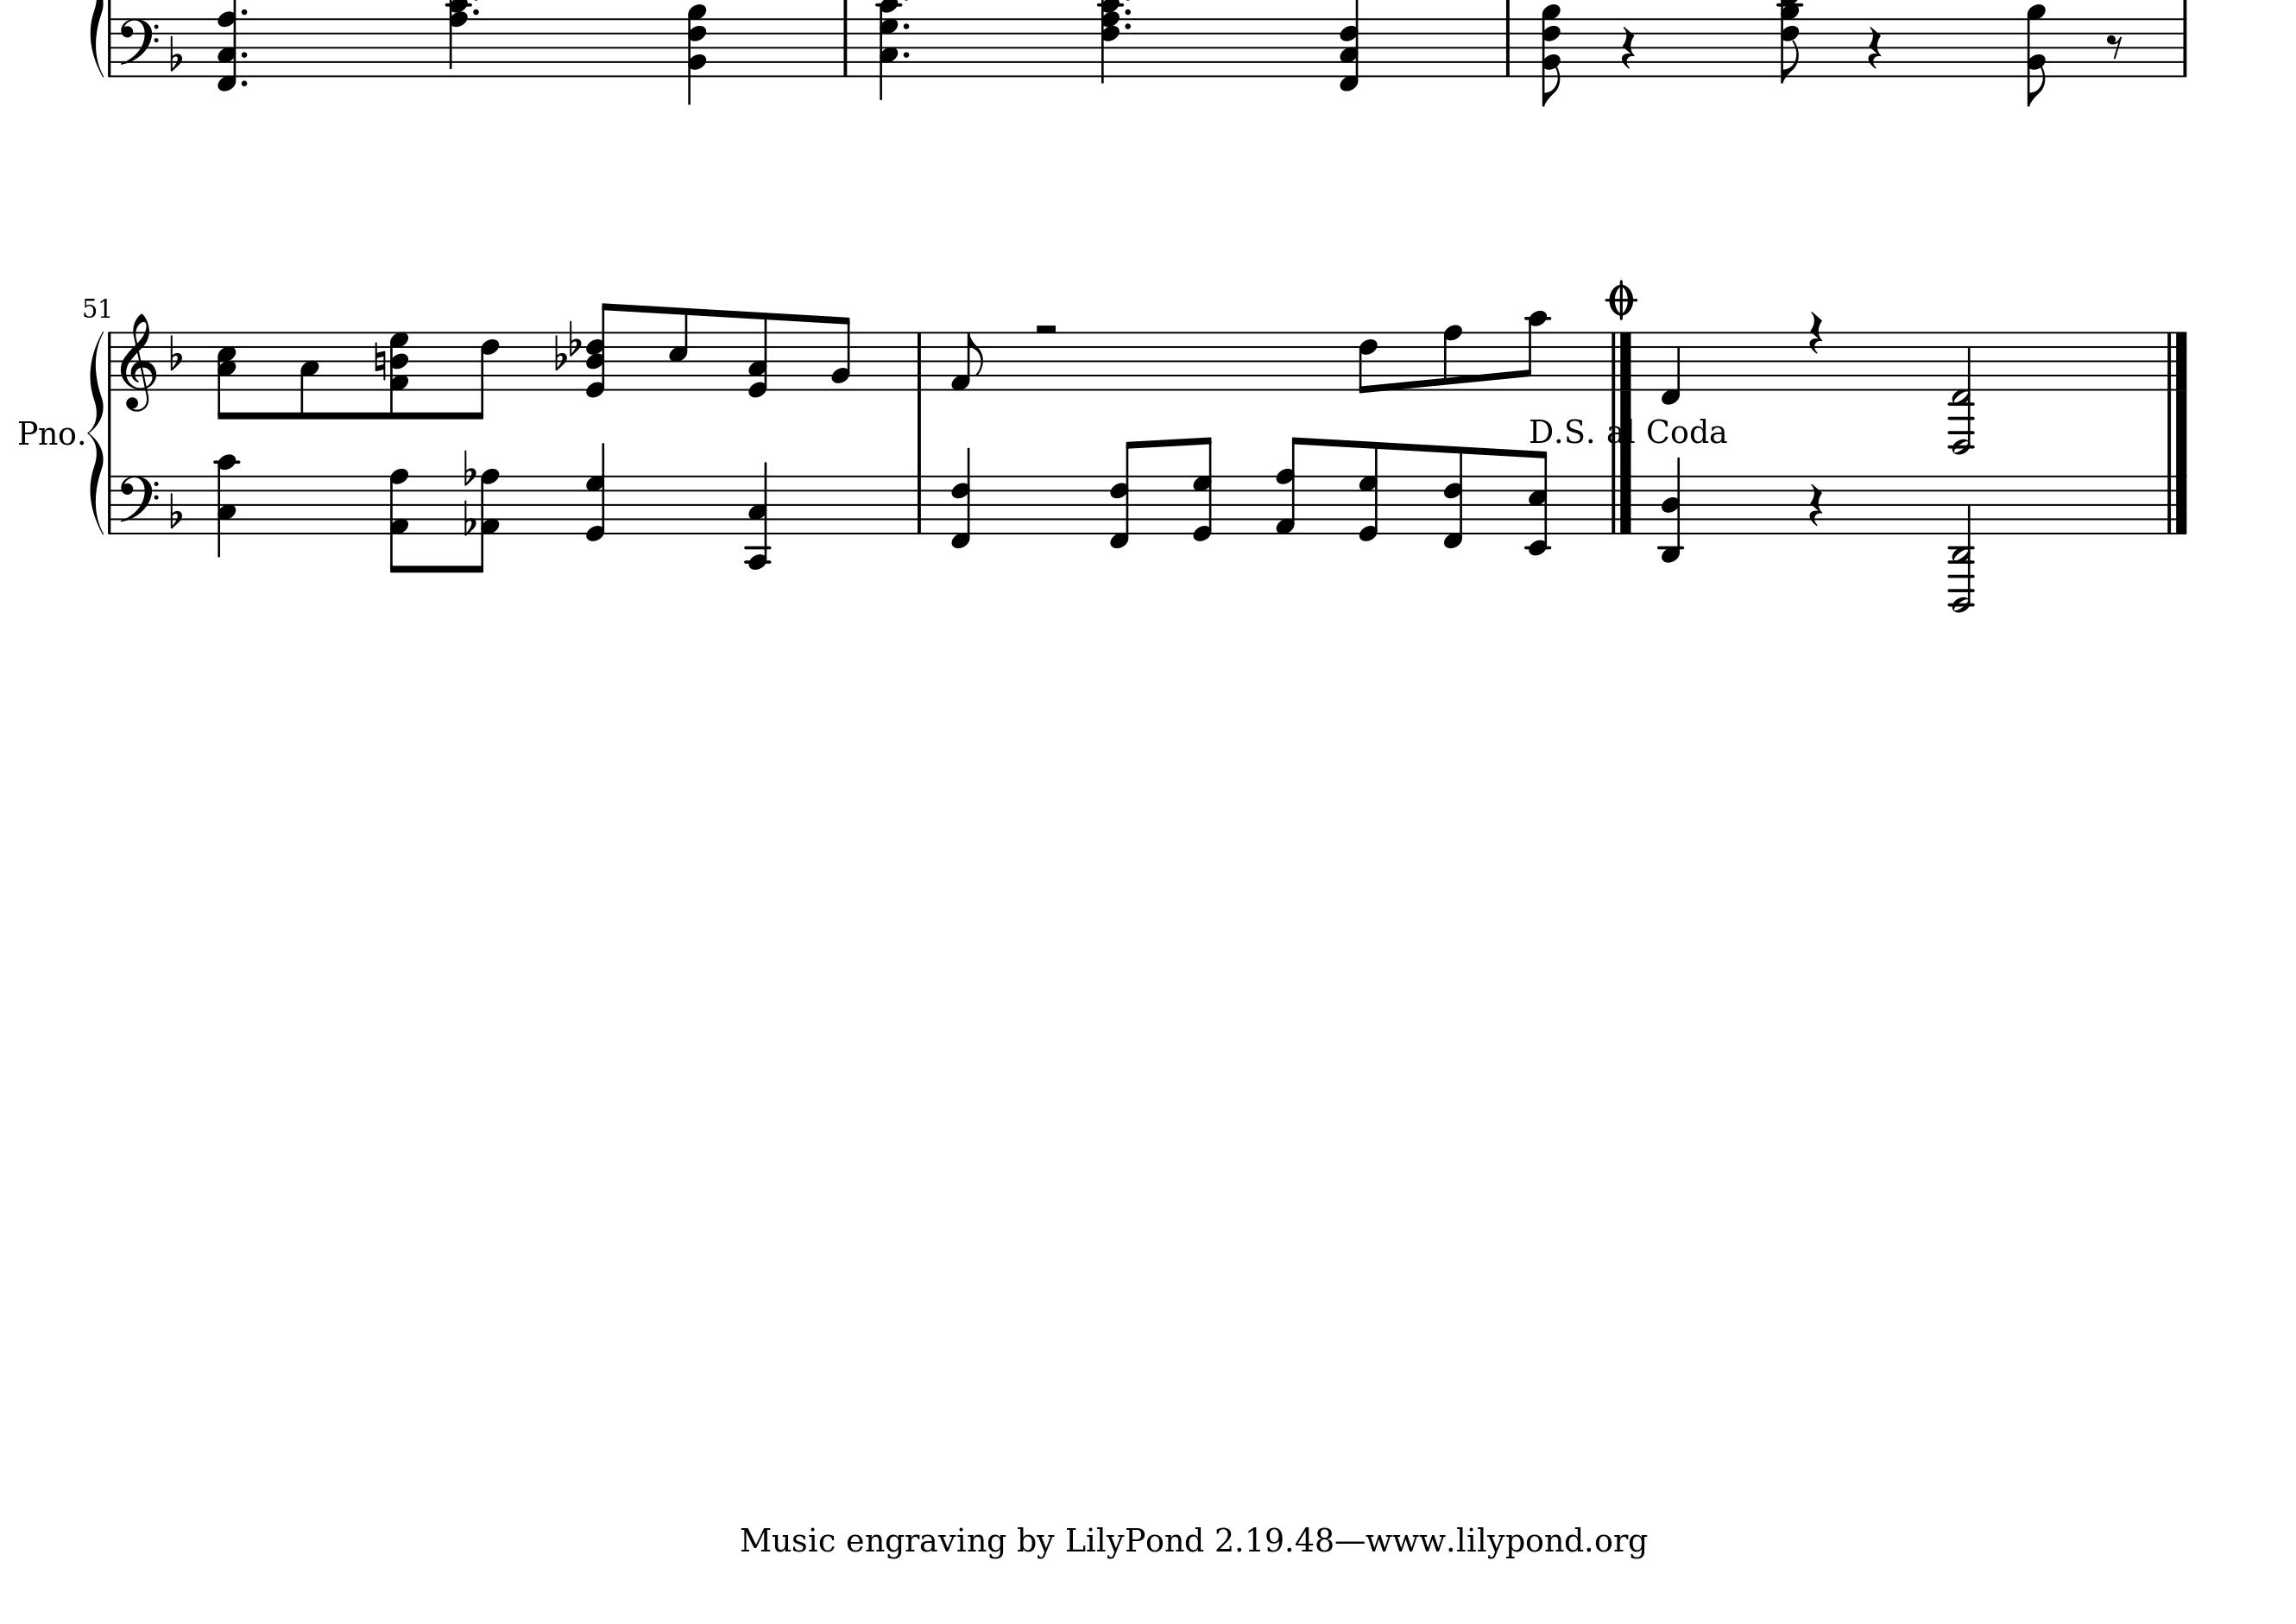1: (98, 295, 111, 320)
2_-8_-1: (1946, 330, 1975, 455)
4_-1: (1660, 329, 1683, 406)
4_-1_6: (949, 448, 973, 548)
4_-3_4: (1655, 455, 1686, 564)
4_-4_3: (743, 462, 773, 573)
4_0_5: (583, 443, 608, 541)
4_3_10: (209, 453, 242, 557)
4_th: (683, 2, 708, 104), (875, 0, 899, 100), (218, 0, 239, 93), (1339, 0, 1360, 93), (1098, 0, 1121, 84)
5: (81, 295, 97, 320)
8_-1_6: (1108, 441, 1140, 548), (1440, 443, 1465, 550)
8_-2_5: (1521, 450, 1555, 555)
8_0_7: (1356, 441, 1381, 541), (1193, 436, 1214, 543)
8_1: (949, 330, 986, 392)
8_10: (1520, 308, 1549, 392)
8_1_8: (1275, 436, 1305, 534), (474, 468, 499, 573), (388, 468, 411, 575)
8_2: (831, 315, 850, 392)
8_3: (299, 329, 320, 422)
8_4th: (583, 302, 620, 399)
8_5: (668, 304, 690, 392)
8_6: (469, 329, 501, 422), (1358, 329, 1379, 395)
8_8: (1442, 323, 1463, 392)
8_th: (1539, 0, 1562, 107), (386, 330, 413, 420)
Brace: (86, 327, 105, 536)
Coda: (1604, 278, 1639, 318)
Fclef: (116, 16, 158, 79), (118, 473, 160, 536)
Final_barline: (1606, 475, 1635, 534), (2162, 330, 2189, 390), (2161, 475, 2187, 534), (1607, 332, 1632, 390)
Flat: (167, 332, 184, 373), (167, 490, 183, 531), (167, 33, 183, 72), (462, 497, 476, 540), (462, 446, 476, 487)
Gclef: (119, 309, 156, 413)
Natural: (372, 341, 386, 383)
Pno: (16, 415, 77, 452)
Rests2: (1031, 318, 1061, 337)
Rests4: (1864, 25, 1883, 72), (1618, 25, 1637, 70), (1806, 482, 1825, 527), (1808, 309, 1823, 353)
Rests8: (2105, 33, 2124, 60)
Single_barline: (910, 332, 928, 390), (912, 475, 928, 534), (838, 18, 854, 76), (1500, 18, 1516, 76), (2177, 19, 2192, 76), (105, 18, 118, 76), (104, 332, 116, 390), (104, 475, 116, 533)
dot: (899, 19, 912, 32), (1123, 19, 1133, 32), (239, 77, 249, 90), (239, 5, 249, 16), (471, 5, 481, 16), (1123, 5, 1133, 16), (239, 49, 249, 60), (901, 49, 910, 58)
